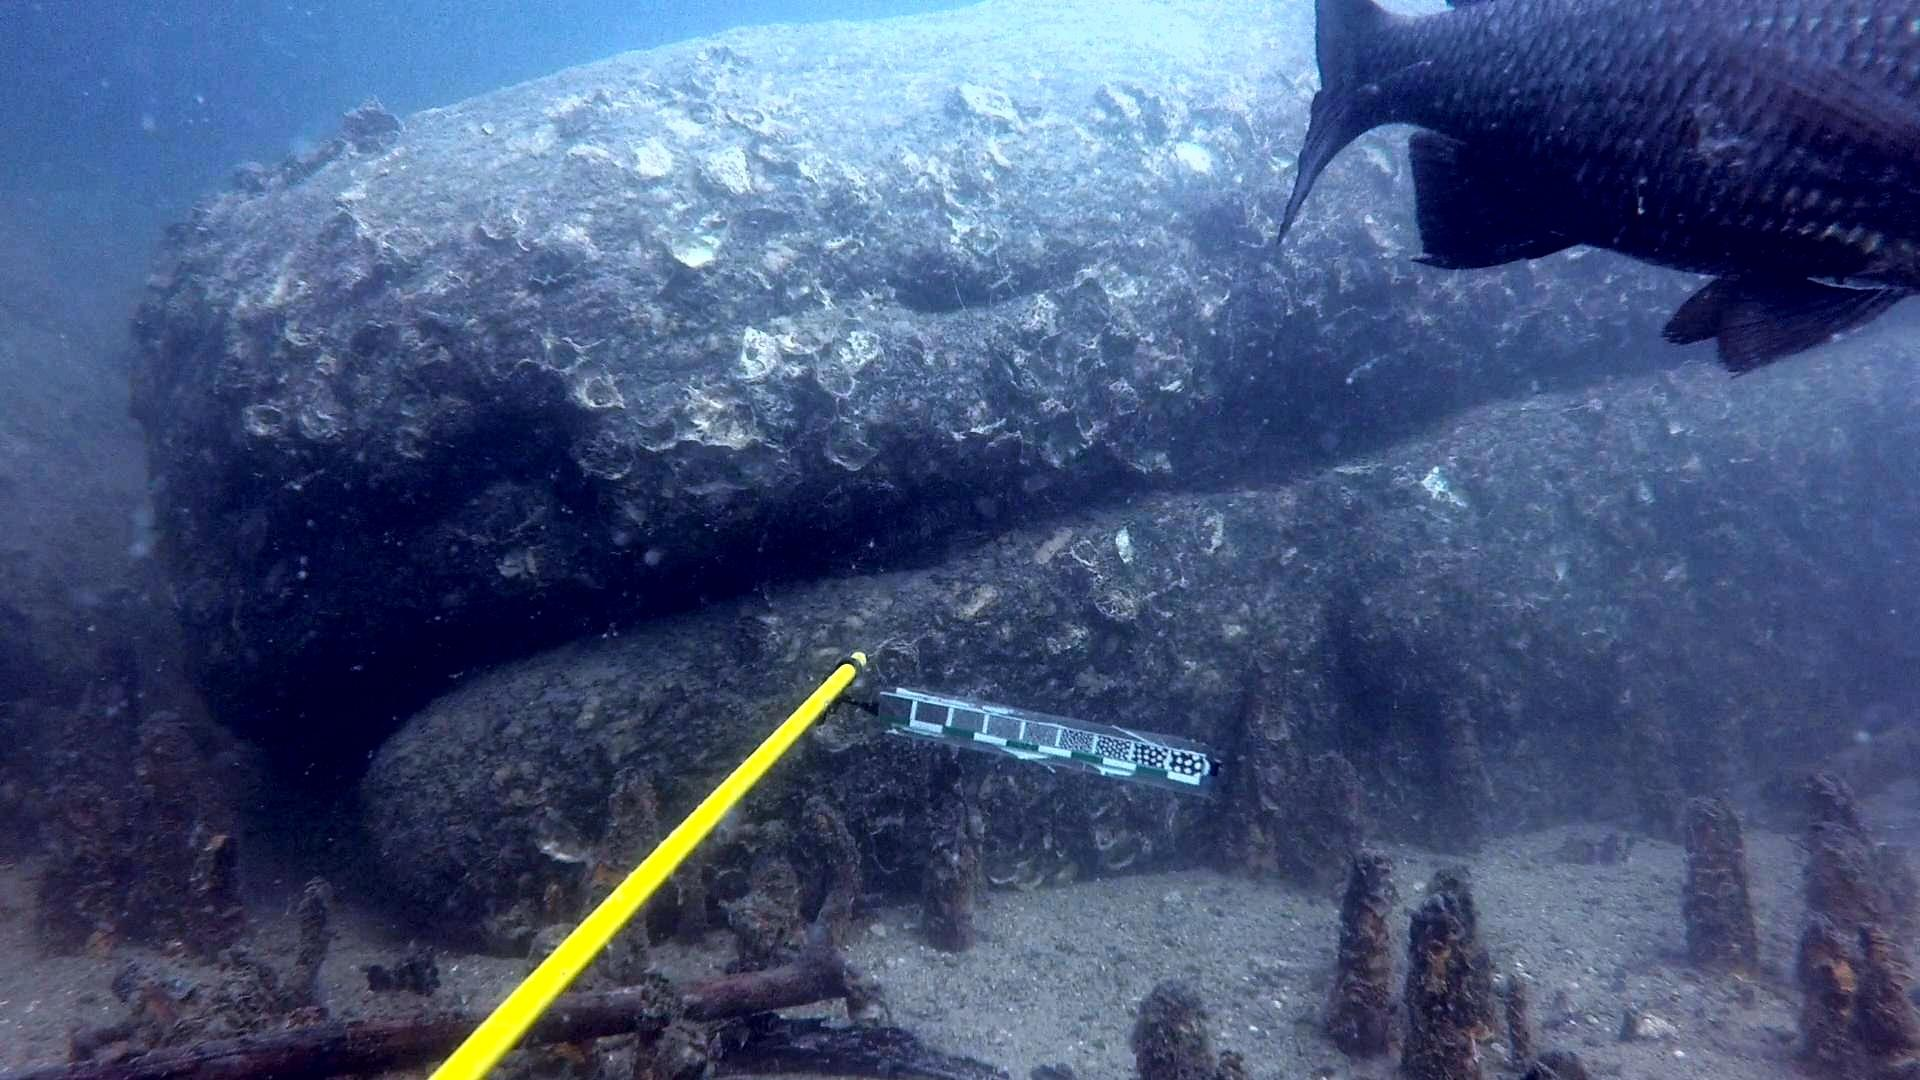acanthopagrus palmaris: (1265, 5, 1920, 384)
